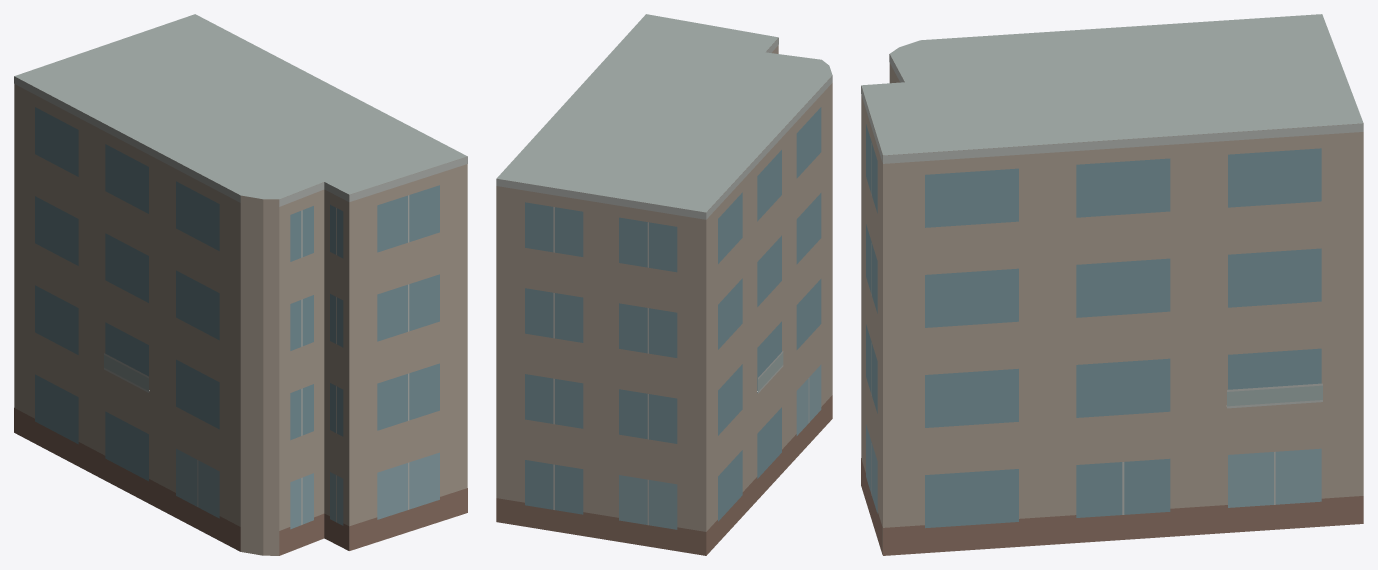
The model's file is survey-upis-32931064.glb.
3 views of the same model, side by side, from view 1: azimuth 30°, elevation 25°; view 2: azimuth 150°, elevation 25°; view 3: azimuth 270°, elevation 25° (orthographic). The views are drawn at different scales.
Visible parts, largest first — view 1: survey-upis-32931064.tmp; view 2: survey-upis-32931064.tmp; view 3: survey-upis-32931064.tmp.
Boxes of the visible parts, x1=… form: survey-upis-32931064.tmp: x1=14, y1=14, x2=467, y2=555; survey-upis-32931064.tmp: x1=496, y1=14, x2=832, y2=555; survey-upis-32931064.tmp: x1=861, y1=14, x2=1363, y2=555.
Size of the model in its own units: 8.72 by 11.5 by 13.09.
